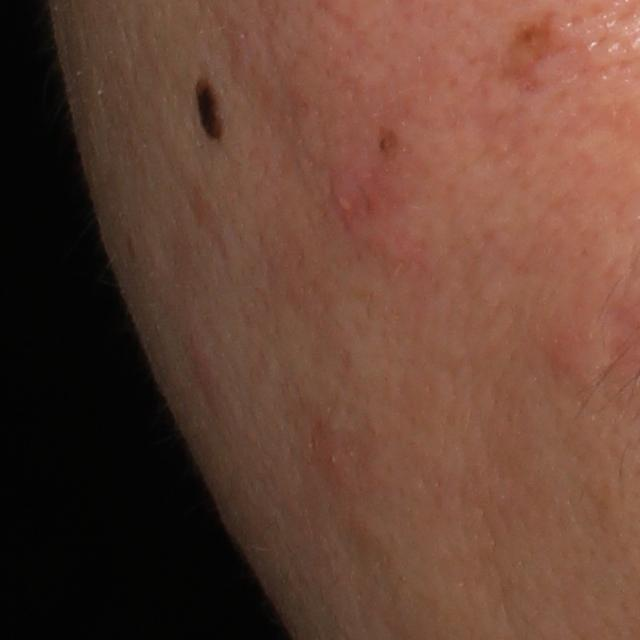atrophic_scar: (498, 11, 567, 106)
nevus: (192, 67, 231, 149), (375, 126, 398, 161)
other: (489, 3, 558, 112)
